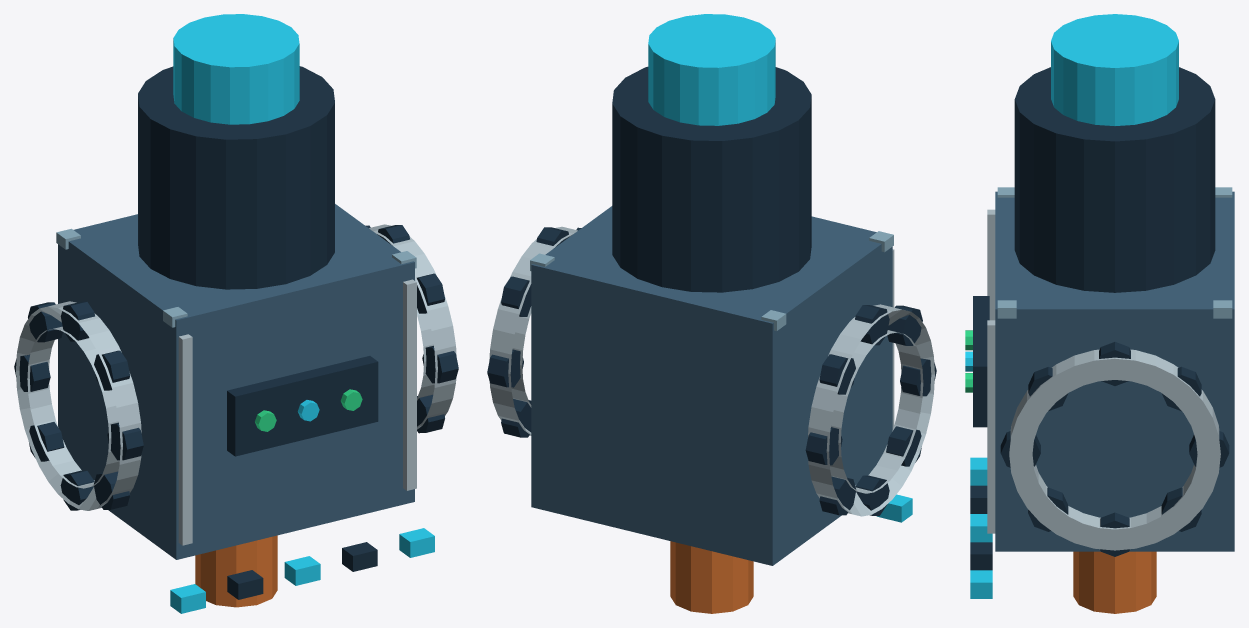
The model's file is 16_L72_HighSpeedPulseValveA.fbx.
3 views of the same model, side by side, from view 1: azimuth 30°, elevation 25°; view 2: azimuth 150°, elevation 25°; view 3: azimuth 270°, elevation 25° (orthographic).
Visible parts, largest first — view 1: HighSpeedPulseValveA; view 2: HighSpeedPulseValveA; view 3: HighSpeedPulseValveA.
Part boxes in pixels (<box>): HighSpeedPulseValveA: <box>14,14,458,613</box>; HighSpeedPulseValveA: <box>487,14,936,613</box>; HighSpeedPulseValveA: <box>965,14,1234,613</box>.
Size of the model in its own units: 70.5 by 110 by 48.4.
